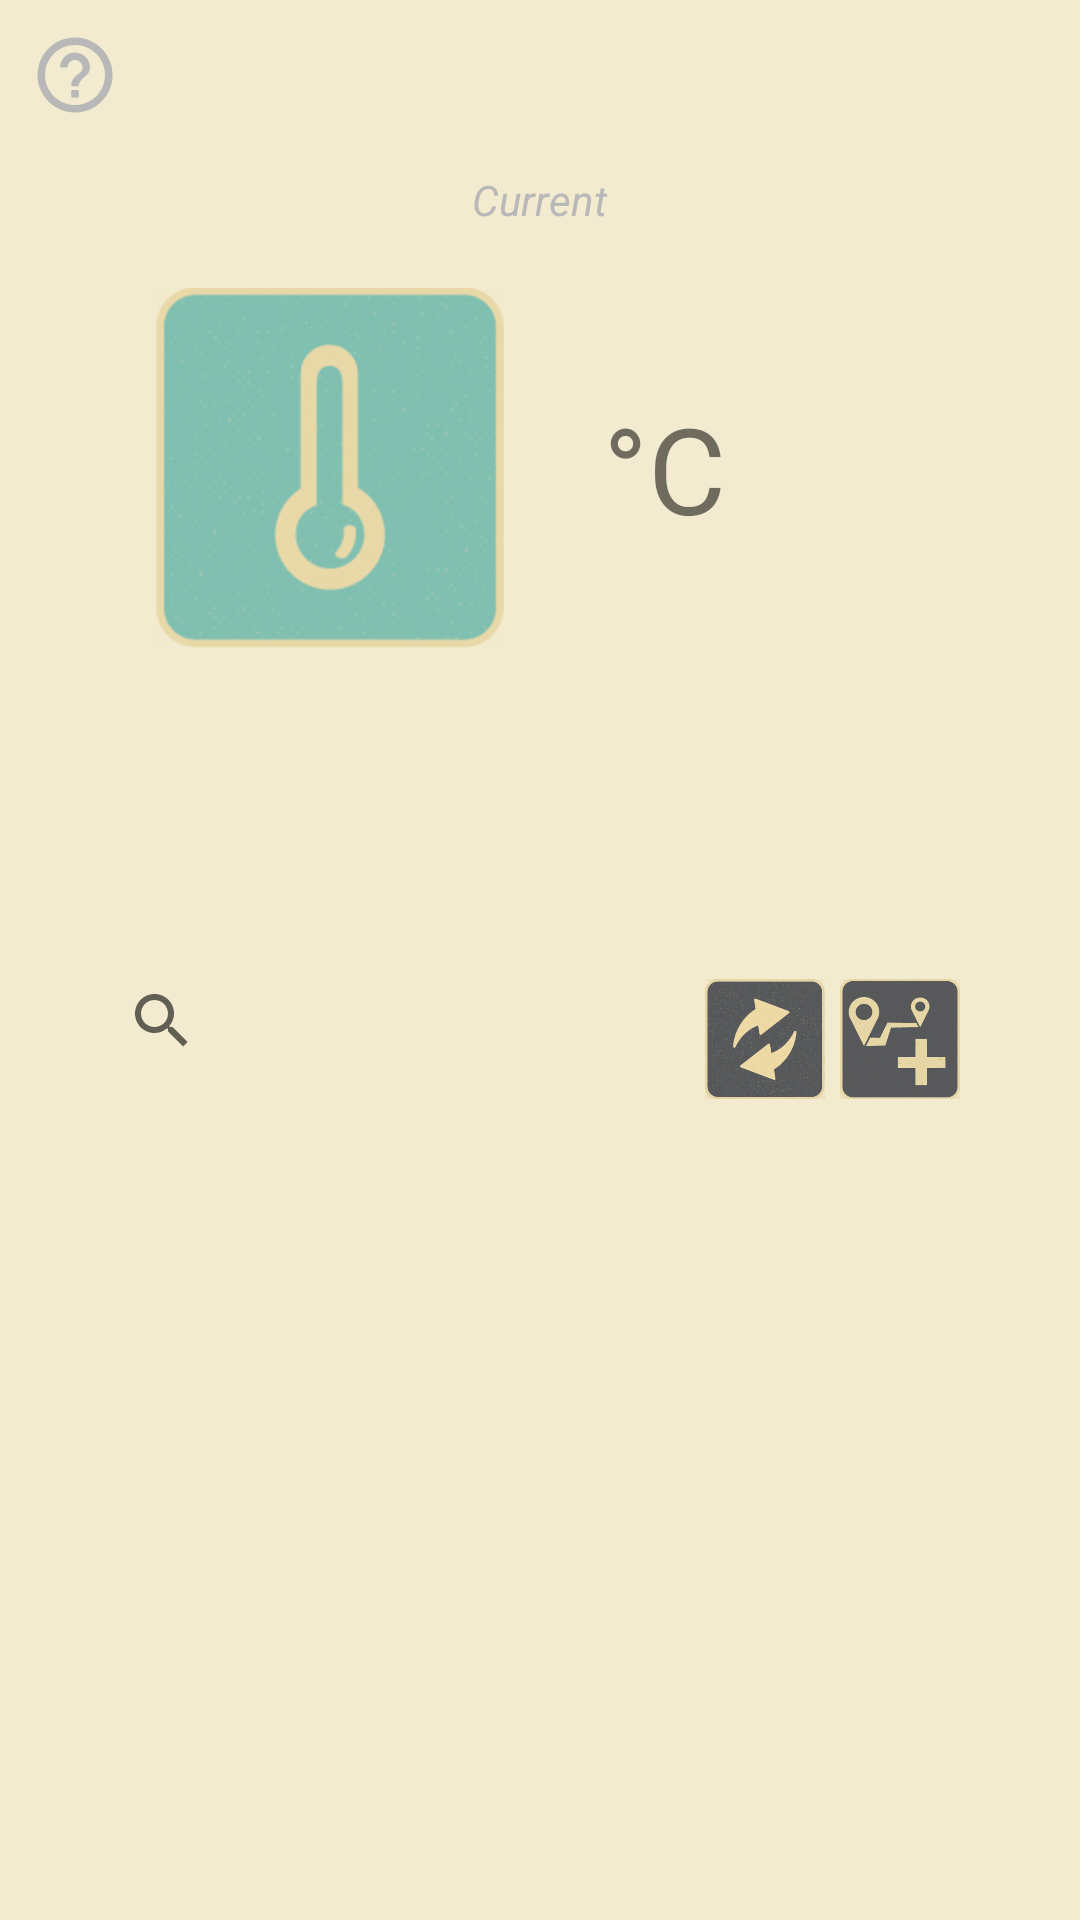

Point at icon controls on the screen. Image size 1080x1920, points as point (x, y).
Info about application: point (75, 75)
Open google map and adding locations to your bookmark list: point (900, 1039)
Refreshing weather of your location and your bookmarks: point (765, 1039)
